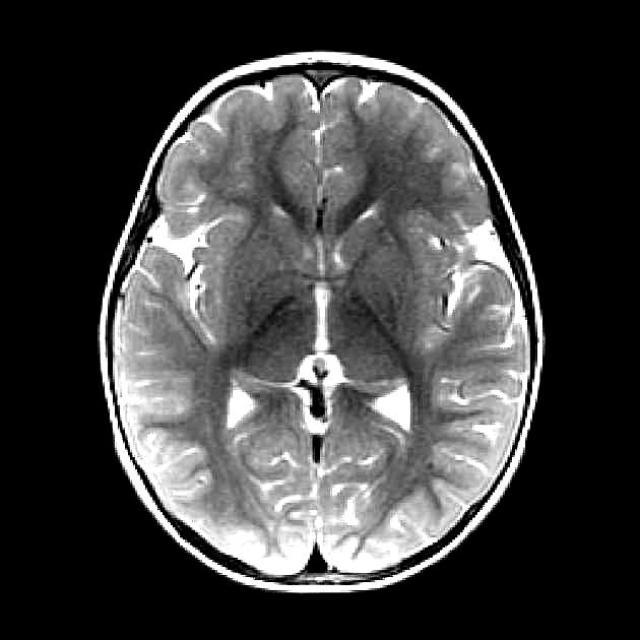notumor: (97, 54, 545, 597)
